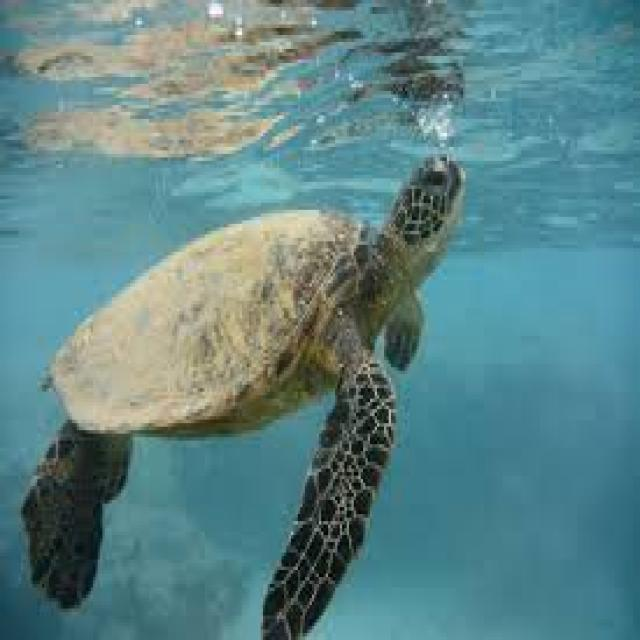turtle: (23, 157, 461, 633)
